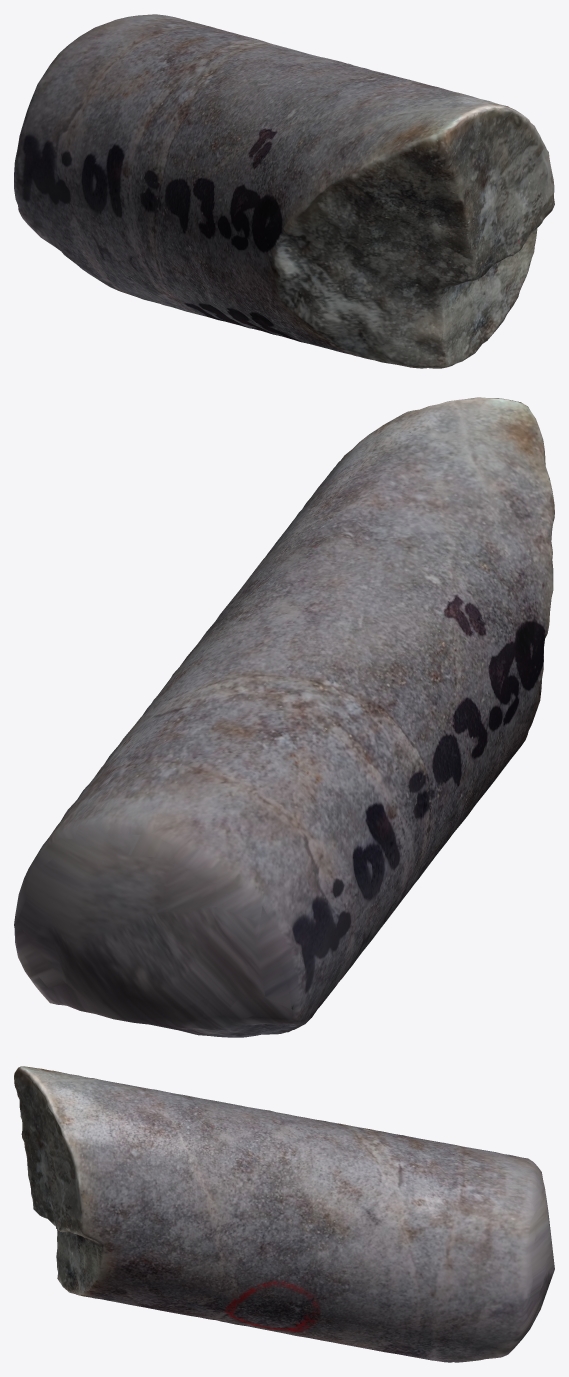
The model's file is PECLD07755 T1.glb.
3 renders of one model, top to bottom at view 1: azimuth 30°, elevation 25°; view 2: azimuth 150°, elevation 25°; view 3: azimuth 270°, elevation 25°, orthographic. The views are drawn at different scales.
Parts seen in each view (by area): view 1: baked_mesh; view 2: baked_mesh; view 3: baked_mesh.
Boxes of the visible parts, left/top/right/bottom form: baked_mesh: left=14, top=14, right=554, bottom=368; baked_mesh: left=14, top=397, right=554, bottom=1037; baked_mesh: left=14, top=1066, right=554, bottom=1362.
Size of the model in its own units: 0.26 by 0.3366 by 0.5858.
1 material, 1 textured.
